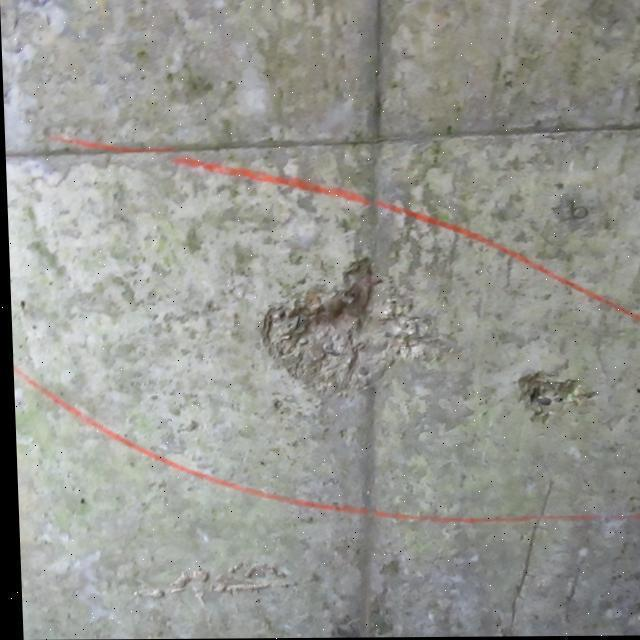D10: (262, 258, 409, 396)
